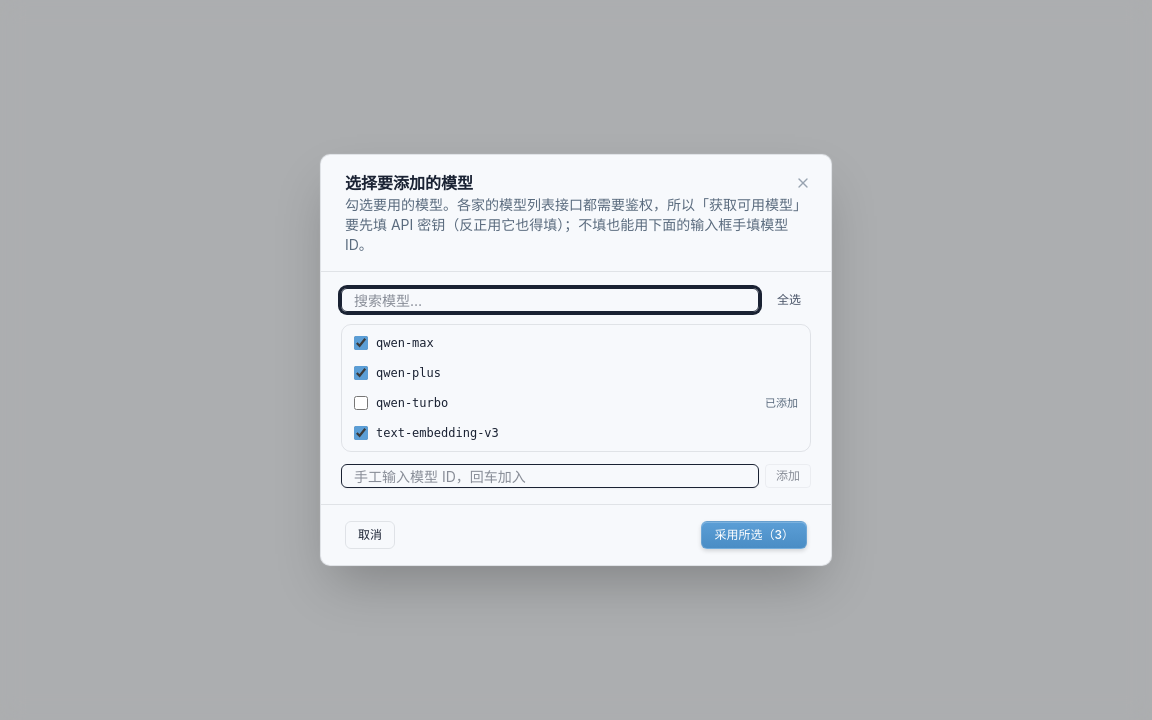
Test case: ModelPickerDialog 候选规则 › 全选（补齐未勾的已存在项）→ 取消全选清空 → 「采用所选」禁用（空交付不是一种操作）
Expected: the checkbox labelled "qwen-turbo 已添加" is not checked, [354,396,368,410]
Click the button "全选" at (789, 300), box [767,288,811,312]
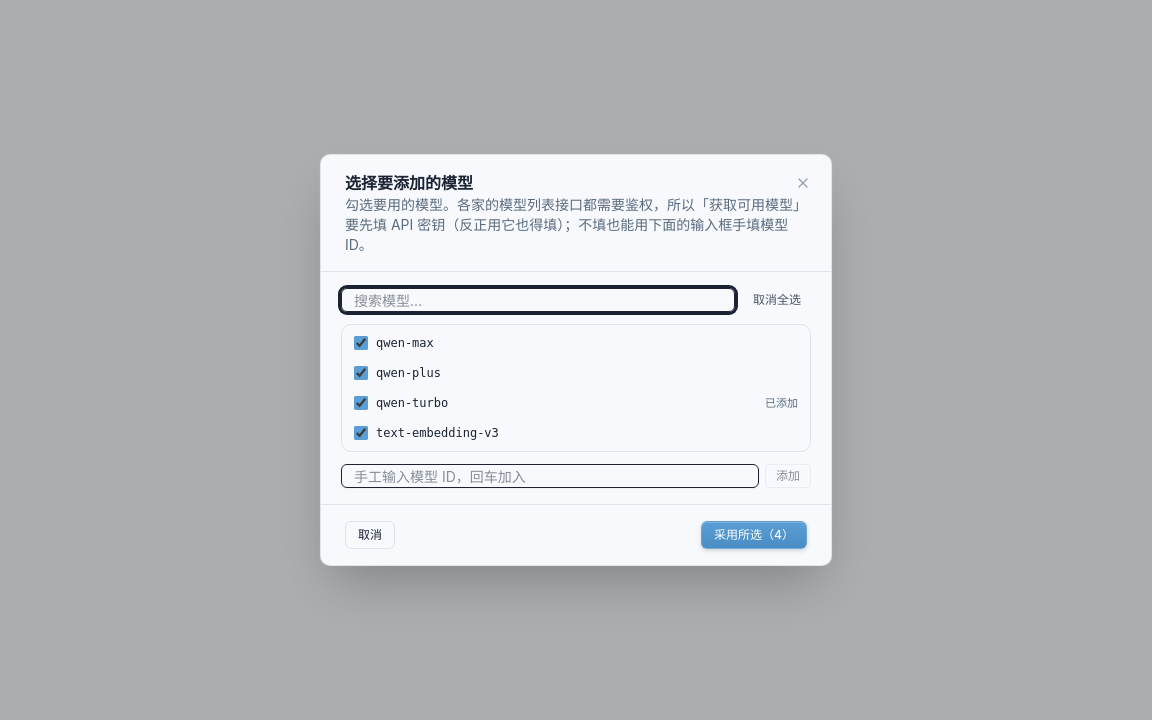
Click the button "取消全选" at (777, 300), box [743,288,811,312]
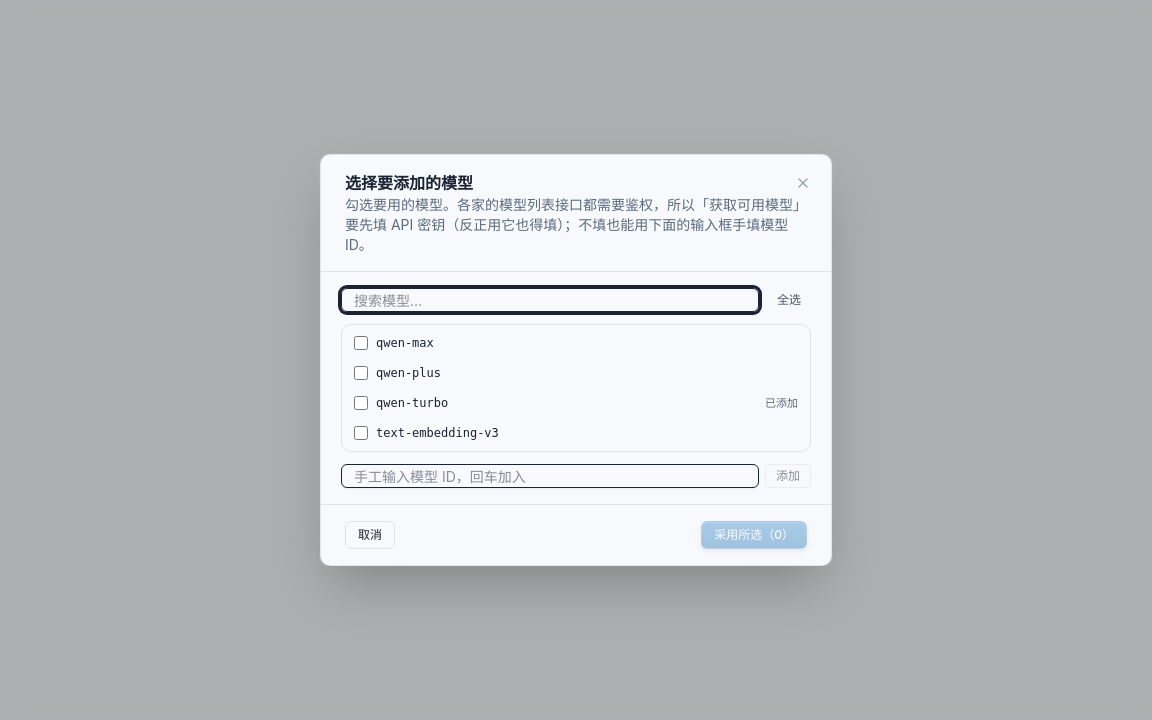
Expected: the button "采用所选（0）" is disabled, [701,521,807,549]
